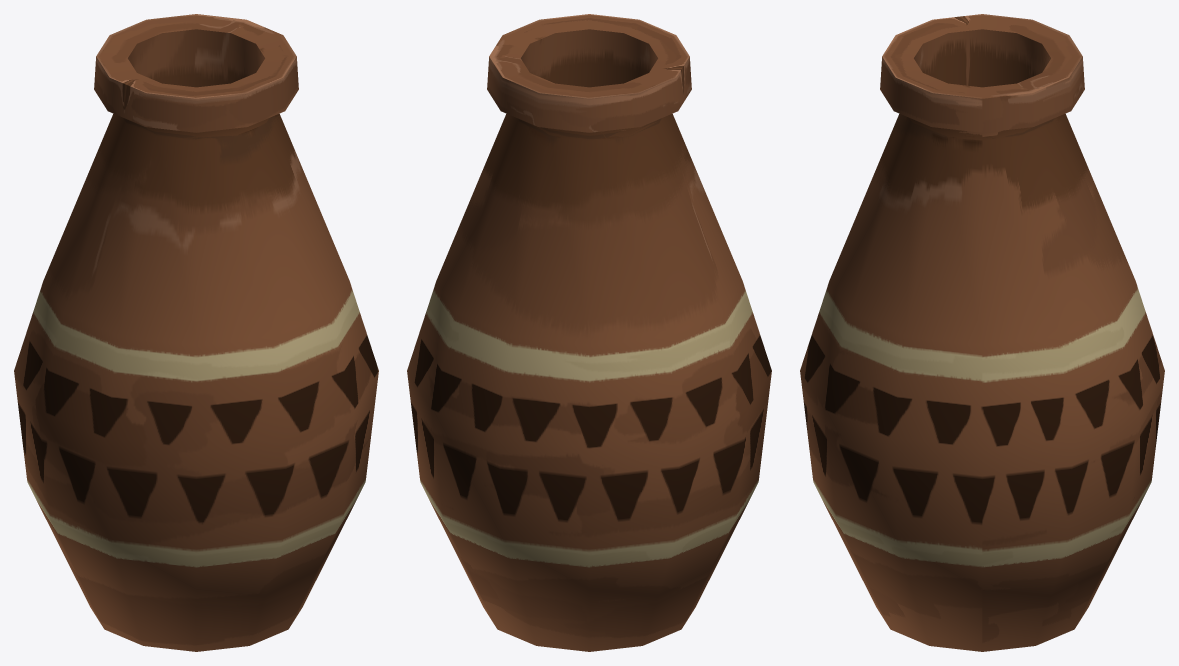
The model's file is SM_PROP_pot_dungeon_04.fbx.
3 renders of one model, left to right at view 1: azimuth 30°, elevation 25°; view 2: azimuth 150°, elevation 25°; view 3: azimuth 270°, elevation 25°, orthographic.
Visible parts, largest first — view 1: SM_PROP_pot_dungeon_04; view 2: SM_PROP_pot_dungeon_04; view 3: SM_PROP_pot_dungeon_04.
Part boxes in pixels (x1,y1,x2,y2): SM_PROP_pot_dungeon_04: (14,14,378,651); SM_PROP_pot_dungeon_04: (407,14,771,651); SM_PROP_pot_dungeon_04: (800,14,1164,651).
Bounding box in the file's own units: 34.87 × 58.05 × 34.87.
